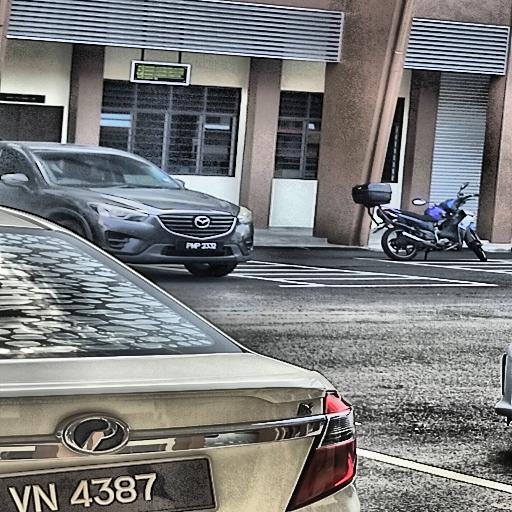license_plate: (1, 455, 220, 512), (175, 240, 225, 252)
